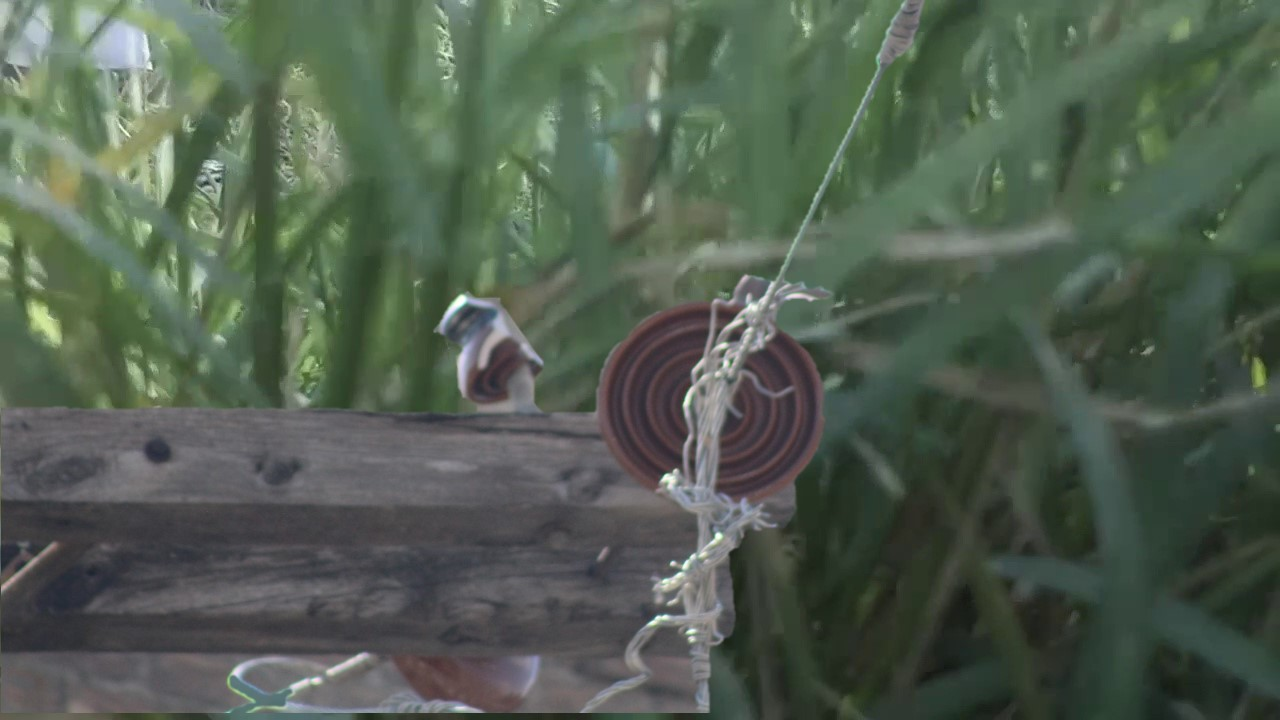defect_pin: (432, 286, 548, 411)
insulator_disc: (593, 295, 831, 528)
